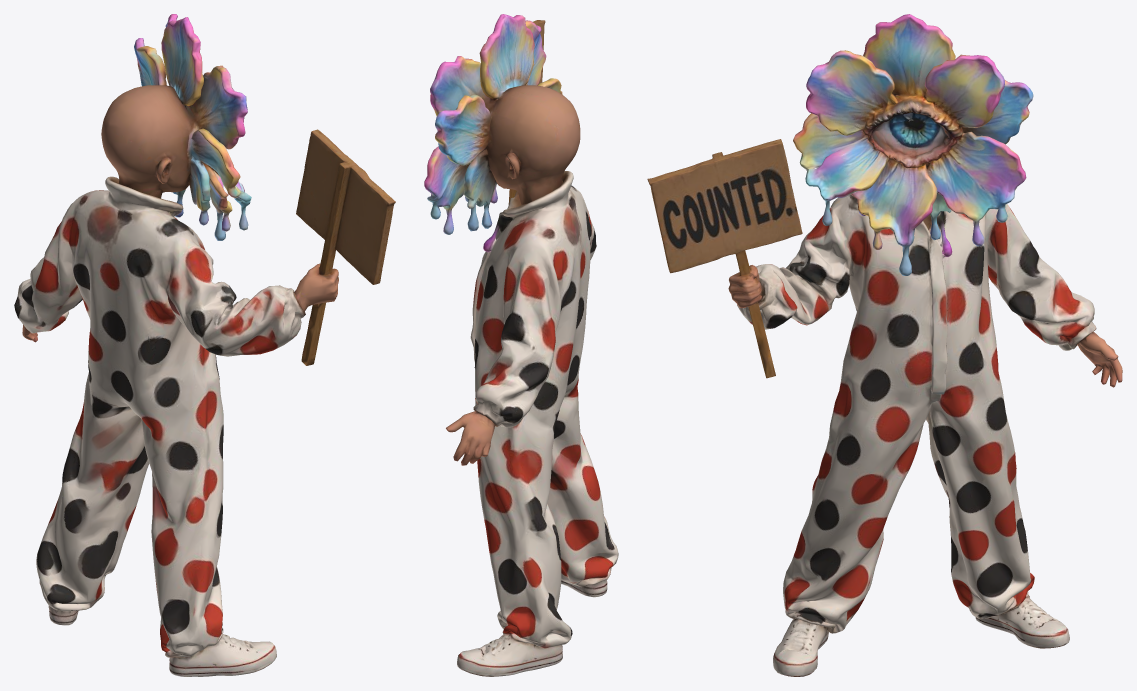
File: ts_dotdancer.glb
3 views of the same model, side by side, from view 1: azimuth 30°, elevation 25°; view 2: azimuth 150°, elevation 25°; view 3: azimuth 270°, elevation 25° (orthographic). The views are drawn at different scales.
Visible parts, largest first — view 1: tripo_node_ed281079-494a-4bb1-95dc-206d59d08ca8; view 2: tripo_node_ed281079-494a-4bb1-95dc-206d59d08ca8; view 3: tripo_node_ed281079-494a-4bb1-95dc-206d59d08ca8.
Part boxes in pixels (x1=…): tripo_node_ed281079-494a-4bb1-95dc-206d59d08ca8: x1=14, y1=14, x2=395, y2=676; tripo_node_ed281079-494a-4bb1-95dc-206d59d08ca8: x1=424, y1=14, x2=618, y2=676; tripo_node_ed281079-494a-4bb1-95dc-206d59d08ca8: x1=647, y1=14, x2=1122, y2=676.
Bounding box in the file's own units: 0.3288 × 1 × 0.6606.
Materials: 1 (1 with a texture image).
